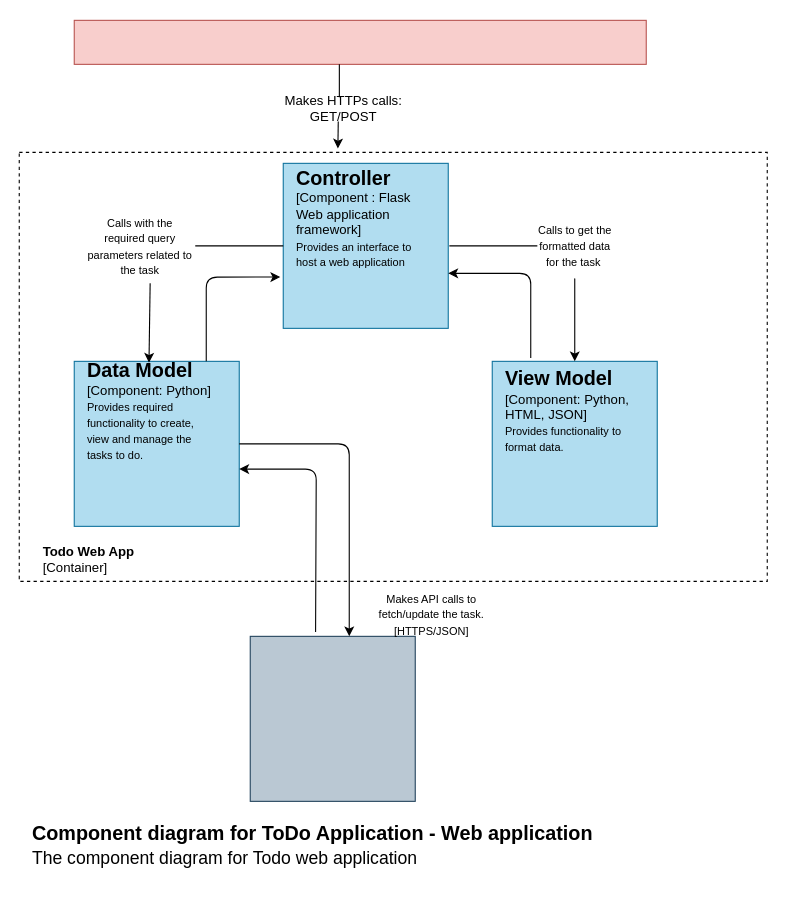
Image size: 787x898. Some labels were removed from this diagram. The centre of each missing label's shape, as x and y in pixels:
"Flask [Web Server] Todo Web application : hhtps://localhost:5000" goes at [359,41].
"Trello [Software System] Creates, stores and manages the tasks" goes at [332,718].
